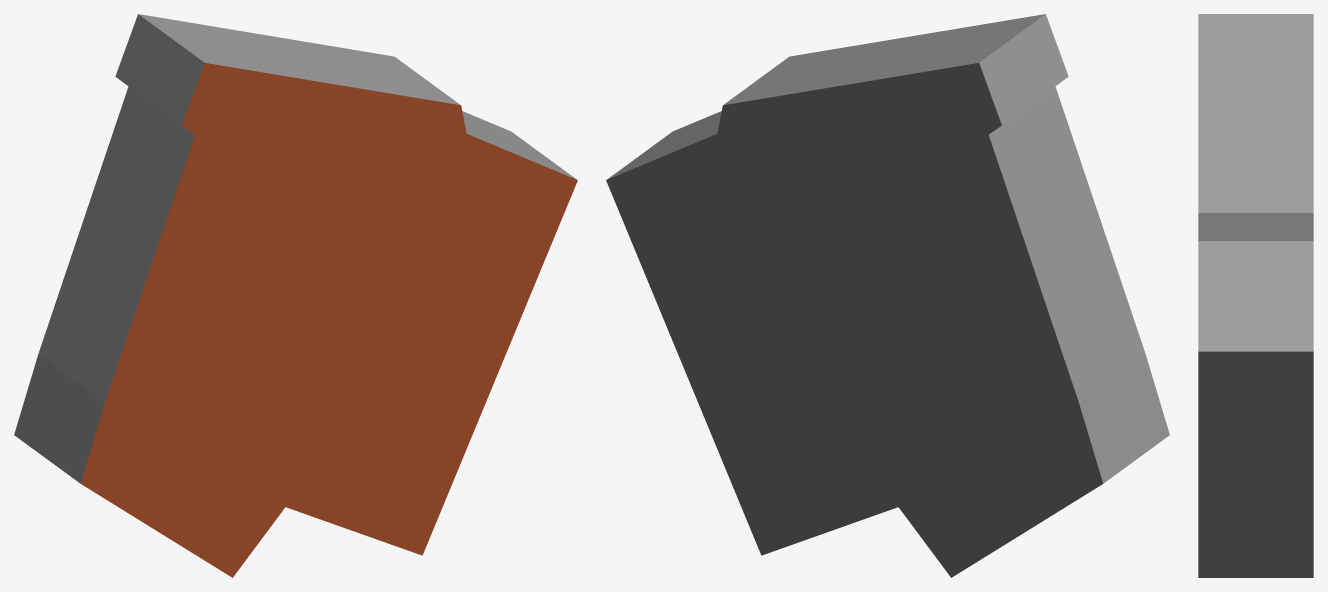
The model's file is construction_3279_assumed_A_Casa_h6m.obj.
3 renders of one model, left to right at view 1: azimuth 30°, elevation 25°; view 2: azimuth 150°, elevation 25°; view 3: azimuth 270°, elevation 25°, orthographic. The views are drawn at different scales.
Parts seen in each view (by area): view 1: construction_3279_assumed_A_Casa; view 2: construction_3279_assumed_A_Casa; view 3: construction_3279_assumed_A_Casa.
Part boxes in pixels (x1,y1,x2,y2): construction_3279_assumed_A_Casa: (14,14,577,577); construction_3279_assumed_A_Casa: (606,14,1169,577); construction_3279_assumed_A_Casa: (1198,14,1313,577).
Size of the model in its own units: 25.84 by 27.11 by 6.
